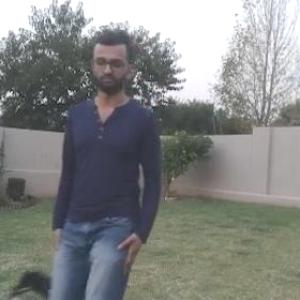follow: (55, 20, 158, 299)
